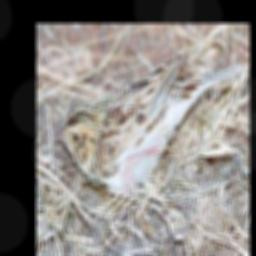Sparrow: (53, 49, 239, 197)
